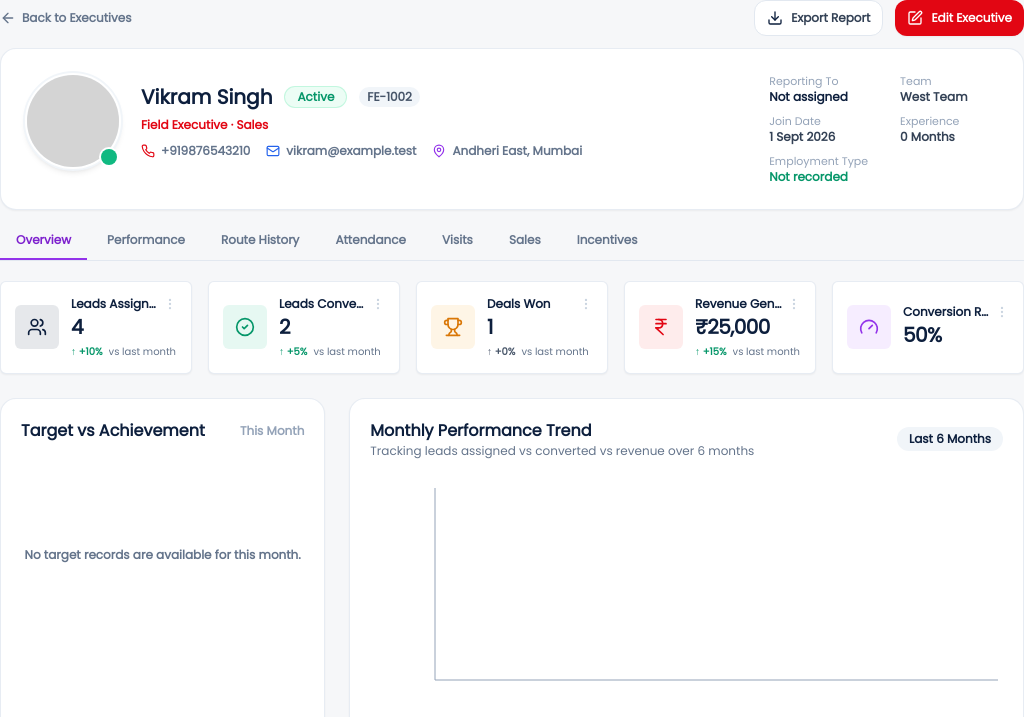
Scenario: Executive profile › opens the requested employee with their stored image and details
Expected: the heading "Vikram Singh" is shown, x1=141 y1=83 x2=272 y2=111
Click the button "Performance".
click(146, 241)  # box x1=91 y1=222 x2=201 y2=260
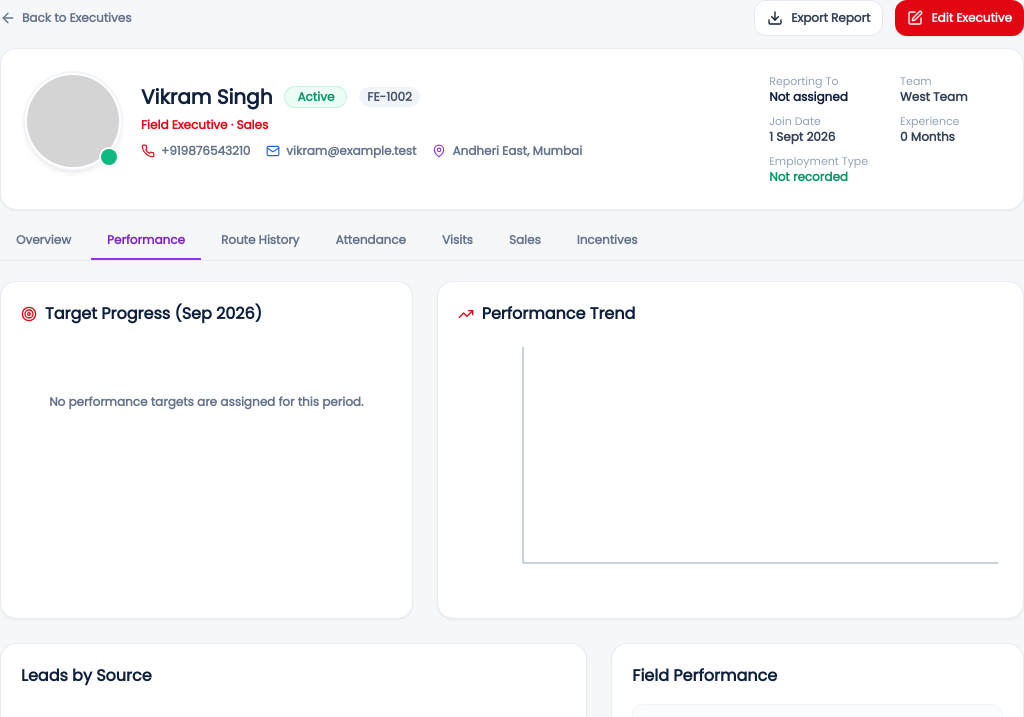
Click the button "Route History".
click(260, 241)  # box x1=205 y1=222 x2=315 y2=260
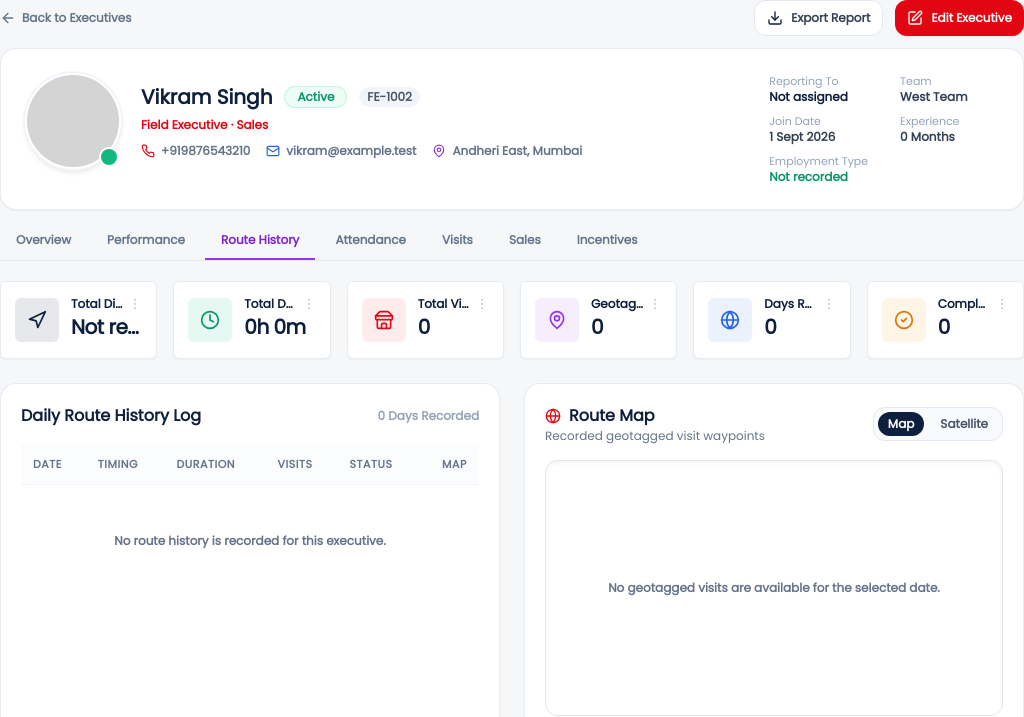
Click the button "Attendance".
click(371, 241)  # box x1=319 y1=222 x2=422 y2=260
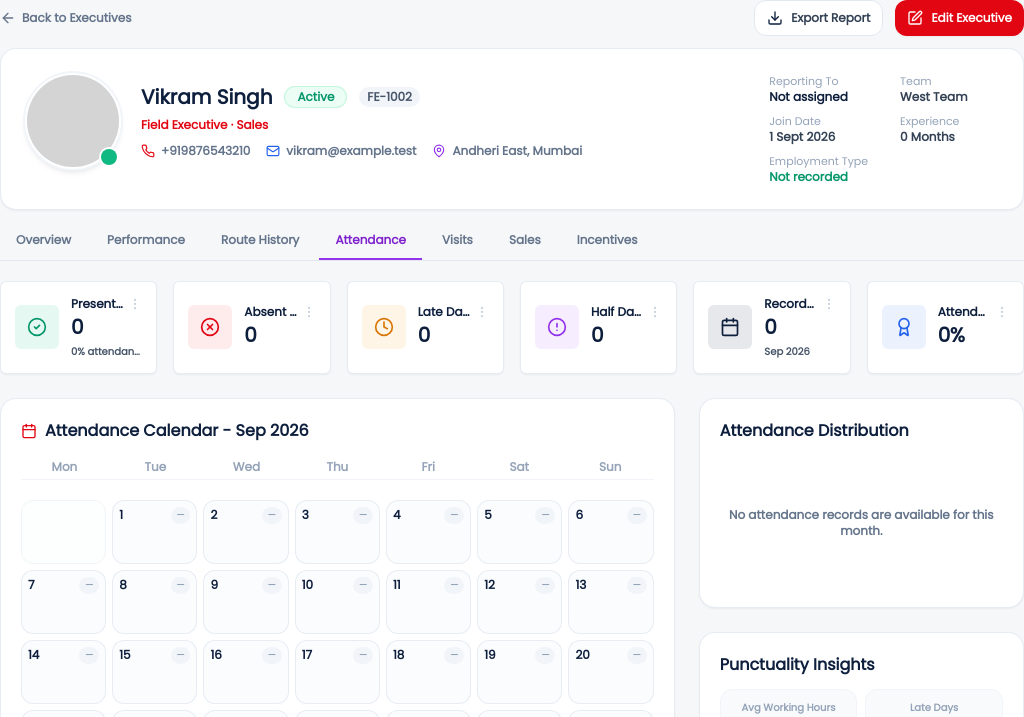
Click the button "Visits".
click(457, 241)  # box x1=426 y1=222 x2=489 y2=260
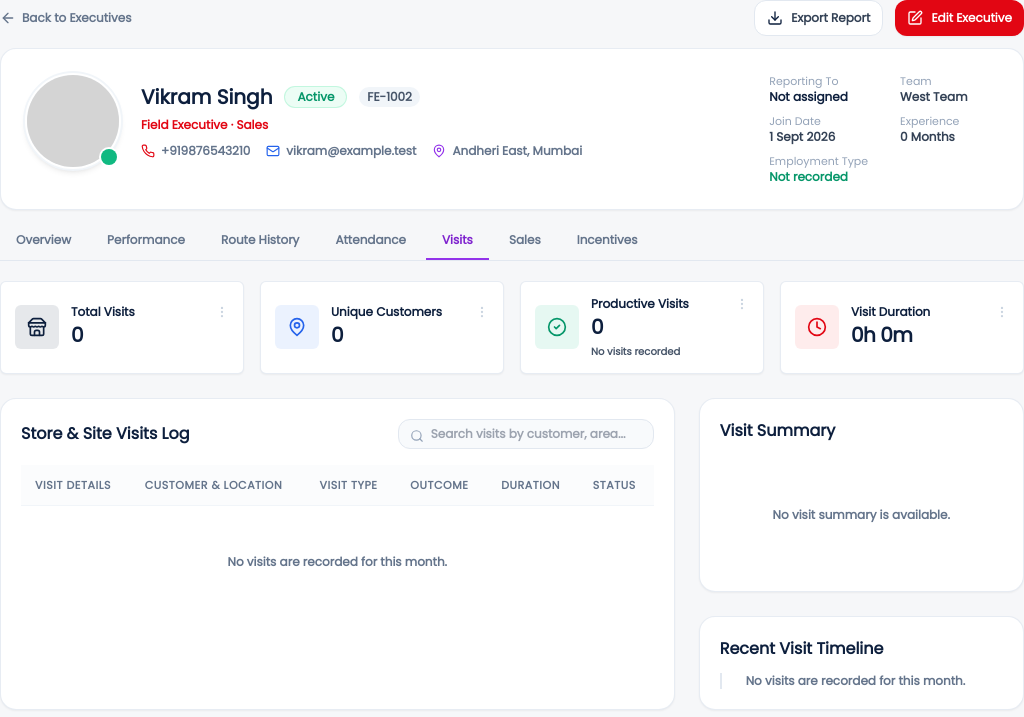
Click the button "Sales".
click(525, 241)  # box x1=493 y1=222 x2=557 y2=260
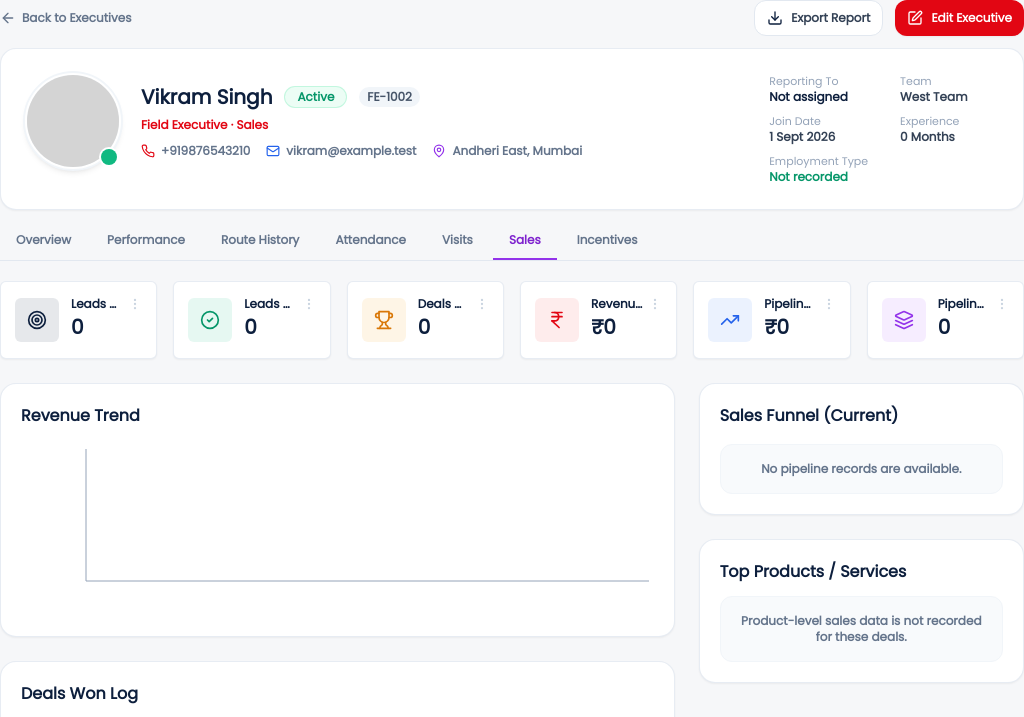
Click the button "Incentives".
click(607, 241)  # box x1=561 y1=222 x2=654 y2=260
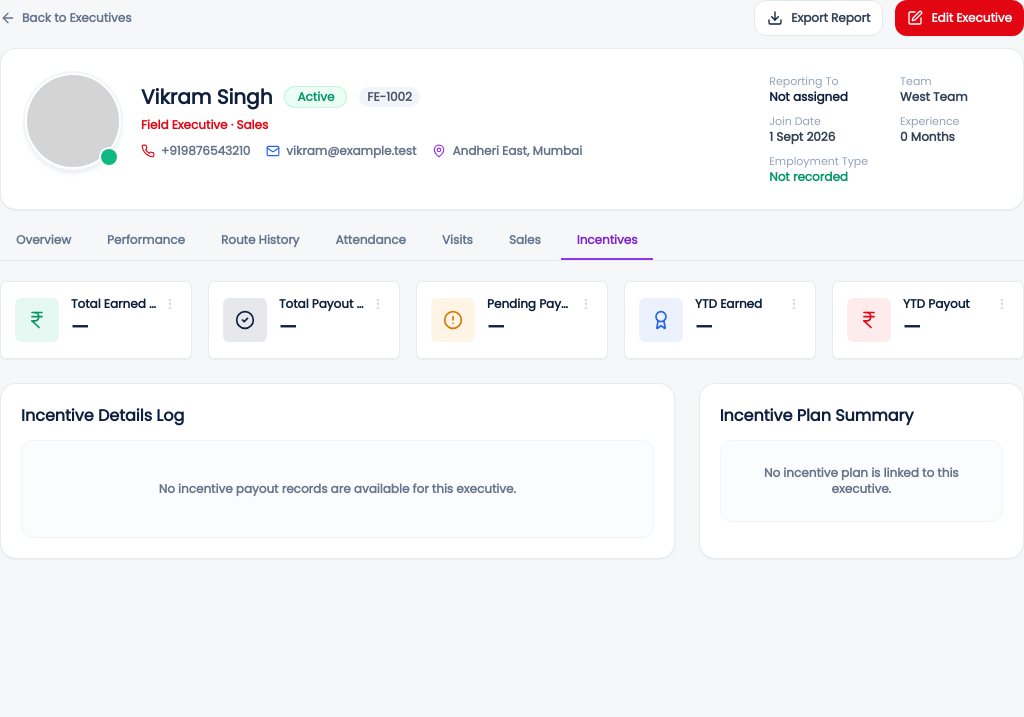
Expected: the text "No incentive payout records are available for this executive." is shown, x1=21 y1=440 x2=654 y2=538
